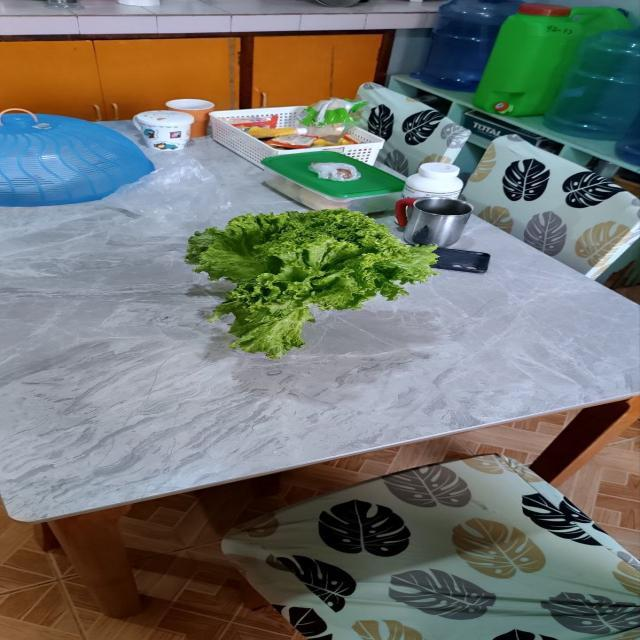Lettuce-Ready-to-Harvest: (186, 210, 436, 358)
